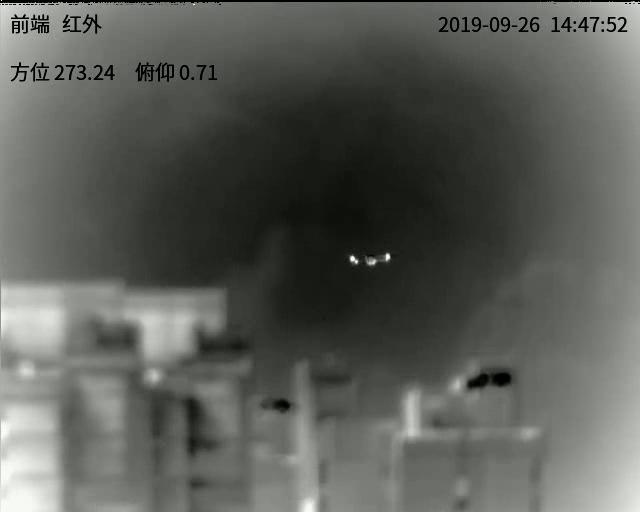DRONE: (348, 251, 392, 268)
